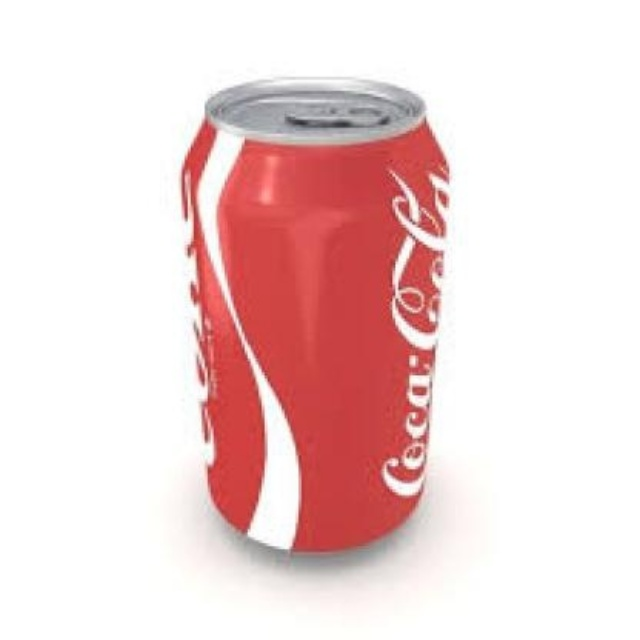trash: (182, 78, 448, 549)
